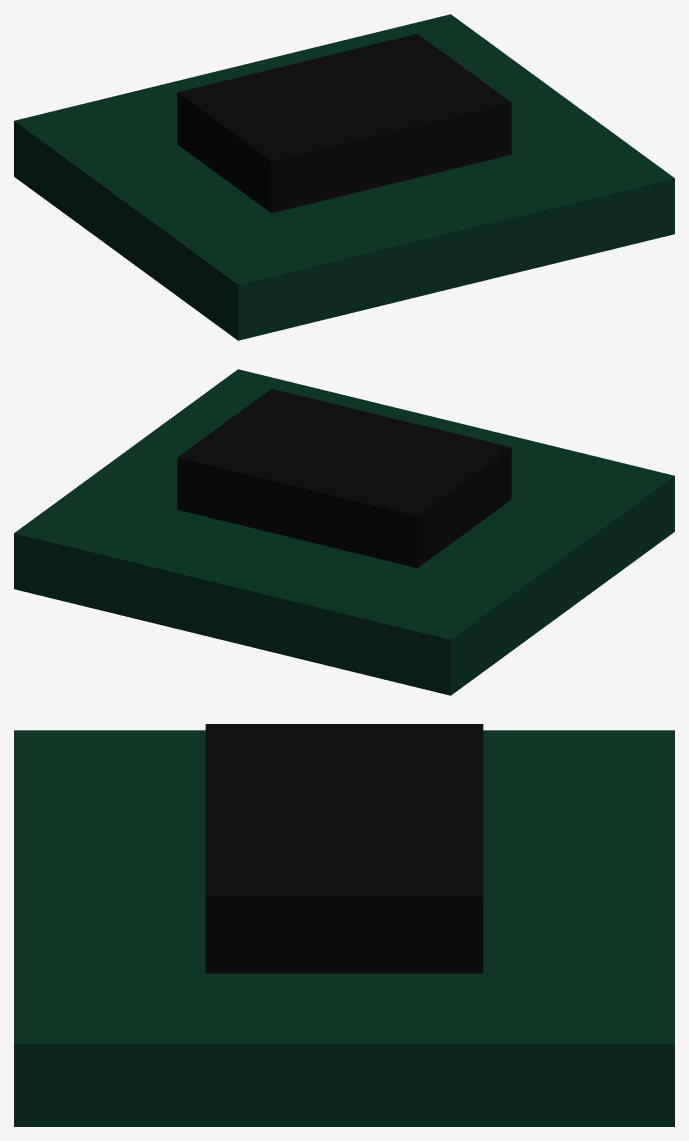
The model's file is 36_L96_S2_Sensor.fbx.
3 renders of one model, top to bottom at view 1: azimuth 30°, elevation 25°; view 2: azimuth 150°, elevation 25°; view 3: azimuth 270°, elevation 25°, orthographic. The views are drawn at different scales.
Visible parts, largest first — view 1: S2_000_Mini_Module_PCB, S2_001_Sensor_Interface_Package; view 2: S2_000_Mini_Module_PCB, S2_001_Sensor_Interface_Package; view 3: S2_000_Mini_Module_PCB, S2_001_Sensor_Interface_Package.
Boxes of the visible parts, x1,y1,x2,y2 form: S2_000_Mini_Module_PCB: (14,14,674,340); S2_001_Sensor_Interface_Package: (177,33,511,213); S2_000_Mini_Module_PCB: (14,369,674,695); S2_001_Sensor_Interface_Package: (177,388,511,568); S2_000_Mini_Module_PCB: (14,730,674,1126); S2_001_Sensor_Interface_Package: (205,724,483,973).
Size of the model in its own units: 0.009 by 0.00254 by 0.008.
